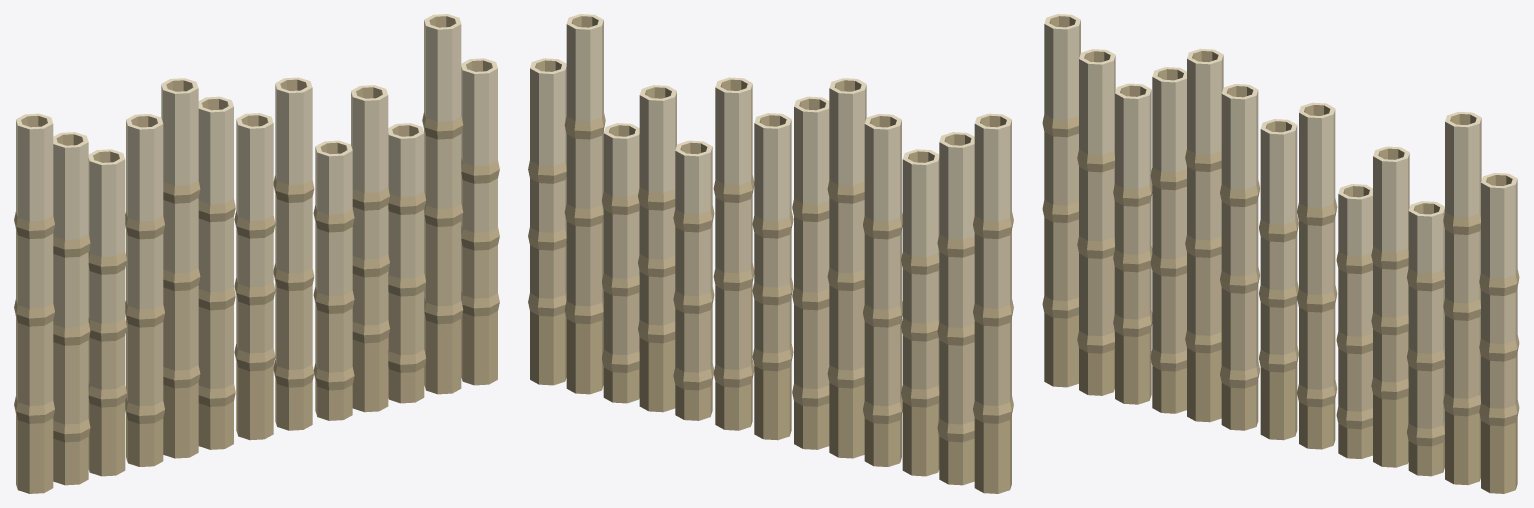
File: fence_bamboo_brown_1.fbx
The picture shows the model from 3 angles, left to right: view 1: azimuth 30°, elevation 25°; view 2: azimuth 150°, elevation 25°; view 3: azimuth 330°, elevation 25°; orthographic projection.
Visible parts, largest first — view 1: fence_bamboo_brown_1; view 2: fence_bamboo_brown_1; view 3: fence_bamboo_brown_1.
Part boxes in pixels (bbox=[...]): fence_bamboo_brown_1: bbox=[14, 14, 499, 493]; fence_bamboo_brown_1: bbox=[528, 14, 1013, 493]; fence_bamboo_brown_1: bbox=[1042, 14, 1519, 493].
Size of the model in its own units: 317 by 229 by 24.2.
